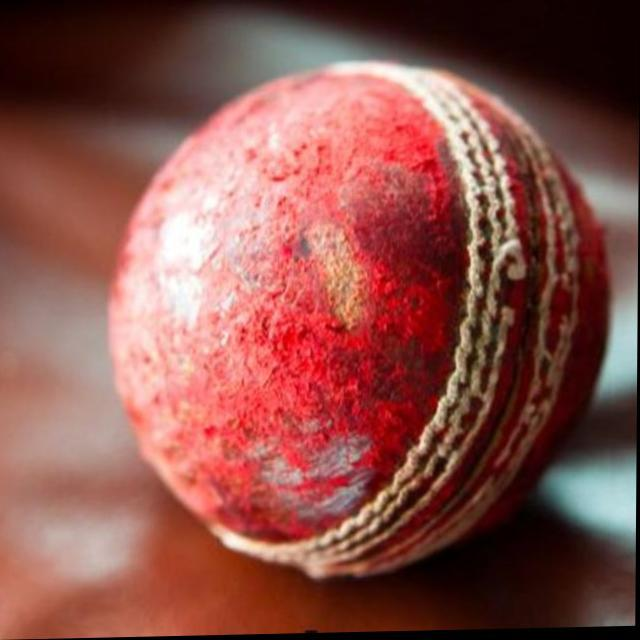cricket ball: (107, 62, 612, 582)
